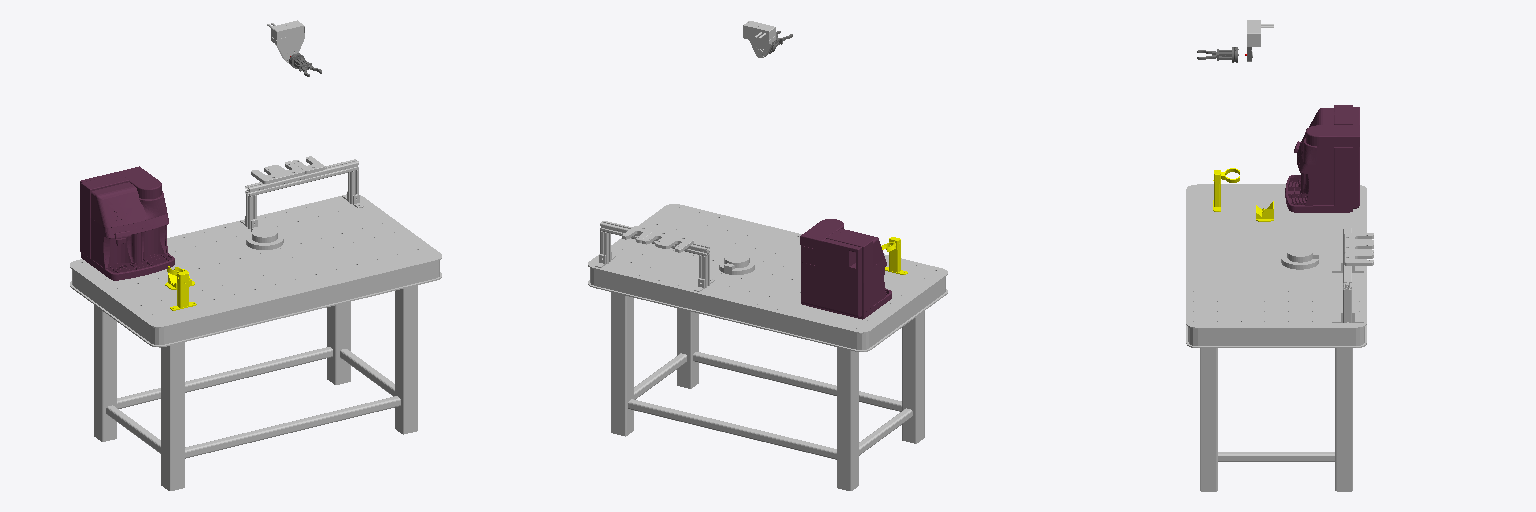
The robot description file, URDF, robot "aubo_e5":
<?xml version="1.0" ?>
<!-- =================================================================================== -->
<!-- |    This document was autogenerated by xacro from /home/mu/IVG2.0/aubo_ros2_ws/src/aubo_ros2_driver/aubo_moveit_config/config/aubo_e5.urdf.xacro | -->
<!-- |    EDITING THIS FILE BY HAND IS NOT RECOMMENDED                                 | -->
<!-- =================================================================================== -->
<robot name="aubo_e5">
  <!-- ===== 机械臂本体 (6-DOF) ===== -->
  <link name="base_link">
    <inertial>
      <origin rpy="0 0 0" xyz="-1.4795E-13 0.0015384 0.020951"/>
      <mass value="0.83419"/>
      <inertia ixx="0.0014414" ixy="7.8809E-15" ixz="8.5328E-16" iyy="0.0013542" iyz="-1.4364E-05" izz="0.0024659"/>
    </inertial>
    <visual>
      <origin rpy="0 0 0" xyz="0 0 0"/>
      <geometry>
        <mesh filename="package://aubo_description/meshes/visual/link0.dae"/>
      </geometry>
      <material name="">
        <color rgba="0.82 0.82 0.82 1"/>
      </material>
    </visual>
    <collision>
      <origin rpy="0 0 0" xyz="0 0 0"/>
      <geometry>
        <mesh filename="package://aubo_description/meshes/collision/link0.stl"/>
      </geometry>
    </collision>
  </link>
  <link name="shoulder_Link">
    <inertial>
      <origin rpy="0 0 0" xyz="0 0.0038 0.0006"/>
      <mass value="5.05"/>
      <inertia ixx="0.0148" ixy="0" ixz="0" iyy="0.0143" iyz="0" izz="0.0095"/>
    </inertial>
    <visual>
      <origin rpy="0 0 0" xyz="0 0 0"/>
      <geometry>
        <mesh filename="package://aubo_description/meshes/visual/link1.dae"/>
      </geometry>
      <material name="">
        <color rgba="0.82 0.82 0.82 1"/>
      </material>
    </visual>
    <collision>
      <origin rpy="0 0 0" xyz="0 0 0"/>
      <geometry>
        <mesh filename="package://aubo_description/meshes/collision/link1.stl"/>
      </geometry>
    </collision>
  </link>
  <joint name="shoulder_joint" type="revolute">
    <origin rpy="0 0 3.1415926535897932384626433832795" xyz="0 0 0.122"/>
    <parent link="base_link"/>
    <child link="shoulder_Link"/>
    <axis xyz="0 0 1"/>
    <limit effort="133" lower="-3.054326190990076759616458844855" start_stop="207" upper="3.054326190990076759616458844855" velocity="2.5964"/>
  </joint>
  <link name="upperArm_Link">
    <inertial>
      <origin rpy="0 0 0" xyz="0.2040 0 0.0196"/>
      <mass value="11.28"/>
      <inertia ixx="0.0305" ixy="0" ixz="0" iyy="0.4505" iyz="0" izz="0.4400"/>
    </inertial>
    <visual>
      <origin rpy="0 0 0" xyz="0 0 0"/>
      <geometry>
        <mesh filename="package://aubo_description/meshes/visual/link2.dae"/>
      </geometry>
      <material name="">
        <color rgba="0.82 0.82 0.82 1"/>
      </material>
    </visual>
    <collision>
      <origin rpy="0 0 0" xyz="0 0 0"/>
      <geometry>
        <mesh filename="package://aubo_description/meshes/collision/link2.stl"/>
      </geometry>
    </collision>
  </link>
  <joint name="upperArm_joint" type="revolute">
    <origin rpy="-1.5707963267948966192313216916398 -1.5707963267948966192313216916398 0" xyz="0 0.1215 0"/>
    <parent link="shoulder_Link"/>
    <child link="upperArm_Link"/>
    <axis xyz="0 0 1"/>
    <limit effort="133" lower="-3.054326190990076759616458844855" start_stop="207" upper="3.054326190990076759616458844855" velocity="2.5964"/>
  </joint>
  <link name="foreArm_Link">
    <inertial>
      <origin rpy="0 0 0" xyz="0.2699 0 0.0992"/>
      <mass value="2.88"/>
      <inertia ixx="0.0033" ixy="0" ixz="0" iyy="0.0575" iyz="0" izz="0.0565"/>
    </inertial>
    <visual>
      <origin rpy="0 0 0" xyz="0 0 0"/>
      <geometry>
        <mesh filename="package://aubo_description/meshes/visual/link3.dae"/>
      </geometry>
      <material name="">
        <color rgba="0.82 0.82 0.82 1"/>
      </material>
    </visual>
    <collision>
      <origin rpy="0 0 0" xyz="0 0 0"/>
      <geometry>
        <mesh filename="package://aubo_description/meshes/collision/link3.stl"/>
      </geometry>
    </collision>
  </link>
  <joint name="foreArm_joint" type="revolute">
    <origin rpy="-3.1415926535897932384626433832795 0 0" xyz="0.408 0 0"/>
    <parent link="upperArm_Link"/>
    <child link="foreArm_Link"/>
    <axis xyz="0 0 1"/>
    <limit effort="133" lower="-3.054326190990076759616458844855" start_stop="207" upper="3.054326190990076759616458844855" velocity="2.5964"/>
  </joint>
  <link name="wrist1_Link">
    <inertial>
      <origin rpy="0 0 0" xyz="0 -0.0997 -0.0780"/>
      <mass value="1.62"/>
      <inertia ixx="0.0023" ixy="0" ixz="0" iyy="0.0013" iyz="0" izz="0.0022"/>
    </inertial>
    <visual>
      <origin rpy="0 0 0" xyz="0 0 0"/>
      <geometry>
        <mesh filename="package://aubo_description/meshes/visual/link4.dae"/>
      </geometry>
      <material name="">
        <color rgba="0.82 0.82 0.82 1"/>
      </material>
    </visual>
    <collision>
      <origin rpy="0 0 0" xyz="0 0 0"/>
      <geometry>
        <mesh filename="package://aubo_description/meshes/collision/link4.stl"/>
      </geometry>
    </collision>
  </link>
  <joint name="wrist1_joint" type="revolute">
    <origin rpy="3.1415926535897932384626433832795 0 1.5707963267948966192313216916398" xyz="0.376 0 0"/>
    <parent link="foreArm_Link"/>
    <child link="wrist1_Link"/>
    <axis xyz="0 0 1"/>
    <limit effort="13.5" lower="-3.054326190990076759616458844855" start_stop="34" upper="3.054326190990076759616458844855" velocity="3.1105"/>
  </joint>
  <link name="wrist2_Link">
    <inertial>
      <origin rpy="0 0 0" xyz="0 -0.0028 -0.0030"/>
      <mass value="1.62"/>
      <inertia ixx="0.0023" ixy="0" ixz="0" iyy="0.0013" iyz="0" izz="0.0022"/>
    </inertial>
    <visual>
      <origin rpy="0 0 0" xyz="0 0 0"/>
      <geometry>
        <mesh filename="package://aubo_description/meshes/visual/link5.dae"/>
      </geometry>
      <material name="">
        <color rgba="0.82 0.82 0.82 1"/>
      </material>
    </visual>
    <collision>
      <origin rpy="0 0 0" xyz="0 0 0"/>
      <geometry>
        <mesh filename="package://aubo_description/meshes/collision/link5.stl"/>
      </geometry>
    </collision>
  </link>
  <joint name="wrist2_joint" type="revolute">
    <origin rpy="-1.5707963267948966192313216916398 0 0" xyz="0 0.1025 0"/>
    <parent link="wrist1_Link"/>
    <child link="wrist2_Link"/>
    <axis xyz="0 0 1"/>
    <limit effort="13.5" lower="-3.054326190990076759616458844855" start_stop="34" upper="3.054326190990076759616458844855" velocity="3.1105"/>
  </joint>
  <link name="wrist3_Link">
    <inertial>
      <origin rpy="0 0 0" xyz="0 0 -0.0442"/>
      <mass value="0.5"/>
      <inertia ixx="0.00139395" ixy="0" ixz="0" iyy="0.00139882" iyz="0" izz="0.00224092"/>
    </inertial>
    <visual>
      <origin rpy="0 0 0" xyz="0 0 0"/>
      <geometry>
        <mesh filename="package://aubo_description/meshes/visual/link6.dae"/>
      </geometry>
      <material name="">
        <color rgba="0.82 0.82 0.82 1"/>
      </material>
    </visual>
    <collision>
      <origin rpy="0 0 0" xyz="0 0 0"/>
      <geometry>
        <mesh filename="package://aubo_description/meshes/collision/link6.stl"/>
      </geometry>
    </collision>
  </link>
  <joint name="wrist3_joint" type="revolute">
    <origin rpy="1.5707963267948966192313216916398 0 1.7907E-15" xyz="0 -0.094 0"/>
    <parent link="wrist2_Link"/>
    <child link="wrist3_Link"/>
    <axis xyz="0 0 1"/>
    <limit effort="13.5" lower="-3.054326190990076759616458844855" start_stop="34" upper="3.054326190990076759616458844855" velocity="3.1105"/>
  </joint>
  <link name="world"/>
  <!-- ===== 底座（咖啡机总装模型 pedestal_Link） ===== -->
  <link name="pedestal_Link">
    <inertial>
      <origin rpy="0 0 0" xyz="0.0024005 -0.14873 -0.0020194"/>
      <mass value="180.93"/>
      <inertia ixx="10.702" ixy="6.7618E-17" ixz="3.0187E-14" iyy="41.01" iyz="1.466E-07" izz="32.457"/>
    </inertial>
    <visual>
      <origin rpy="0 0 0" xyz="0 0 0"/>
      <geometry>
        <mesh filename="package://aubo_description/meshes/visual/pedestal_link.stl"/>
      </geometry>
      <material name="">
        <color rgba="0.82 0.82 0.82 1"/>
      </material>
    </visual>
    <collision>
      <origin rpy="0 0 0" xyz="0 0 0"/>
      <geometry>
        <mesh filename="package://aubo_description/meshes/collision/pedestal_link.stl"/>
      </geometry>
    </collision>
  </link>
  <joint name="world_to_pedestal" type="fixed">
    <parent link="world"/>
    <child link="pedestal_Link"/>
    <origin rpy="0.0 0.0 0.0" xyz="0.0 0.0 0.0"/>
  </joint>
  <joint name="base_joint" type="fixed">
    <origin rpy="0 0 0" xyz="0.10483 0.10483 0.028"/>
    <parent link="pedestal_Link"/>
    <child link="base_link"/>
  </joint>
  <!-- ===== 咖啡机总装模型配件 ===== -->
  <link name="cup0_Link">
    <inertial>
      <origin rpy="0 0 0" xyz="0.0459046653140415 0.0335578409178754 0.00298286778797363"/>
      <mass value="1.42763211505643"/>
      <inertia ixx="0.00133864759857838" ixy="-0.000153798571779387" ixz="-3.31742934007893E-05" iyy="0.00208448111254178" iyz="-3.67284842420613E-05" izz="0.0011896985575748"/>
    </inertial>
    <visual>
      <origin rpy="0 0 0" xyz="0 0 0"/>
      <geometry>
        <mesh filename="package://aubo_description/meshes/visual/cup0_link.stl"/>
      </geometry>
      <material name="">
        <color rgba="1 1 0 1"/>
      </material>
    </visual>
    <collision>
      <origin rpy="0 0 0" xyz="0 0 0"/>
      <geometry>
        <mesh filename="package://aubo_description/meshes/collision/cup0_link.stl"/>
      </geometry>
    </collision>
  </link>
  <joint name="cup0_joint" type="fixed">
    <origin rpy="1.5708 0 1.5708" xyz="-0.4225 -0.0925 -0.012"/>
    <parent link="pedestal_Link"/>
    <child link="cup0_Link"/>
  </joint>
  <link name="lizhu_Link">
    <inertial>
      <origin rpy="0 0 0" xyz="0.012277 0.082104 1.7053E-05"/>
      <mass value="0.86598"/>
      <inertia ixx="0.0014347" ixy="1.5778E-05" ixz="1.1895E-08" iyy="0.00066764" iyz="3.1238E-05" izz="0.0012088"/>
    </inertial>
    <visual>
      <origin rpy="0 0 0" xyz="0 0 0"/>
      <geometry>
        <mesh filename="package://aubo_description/meshes/visual/lizhu_link.stl"/>
      </geometry>
      <material name="">
        <color rgba="1 1 0 1"/>
      </material>
    </visual>
    <collision>
      <origin rpy="0 0 0" xyz="0 0 0"/>
      <geometry>
        <mesh filename="package://aubo_description/meshes/collision/lizhu_link.stl"/>
      </geometry>
    </collision>
  </link>
  <joint name="lizhu_joint" type="fixed">
    <origin rpy="1.5708 0 1.5708" xyz="-0.525 -0.2625 0.006"/>
    <parent link="pedestal_Link"/>
    <child link="lizhu_Link"/>
  </joint>
  <link name="coffee_Link">
    <inertial>
      <origin rpy="0 0 0" xyz="0.01588 0.20584 0.0021911"/>
      <mass value="91.454"/>
      <inertia ixx="0.89876" ixy="0.0020091" ixz="-0.10749" iyy="1.0151" iyz="0.023803" izz="0.44104"/>
    </inertial>
    <visual>
      <origin rpy="0 0 0" xyz="0 0 0"/>
      <geometry>
        <mesh filename="package://aubo_description/meshes/visual/coffee_link.stl"/>
      </geometry>
      <material name="">
        <color rgba="0.42745 0.24706 0.35686 1"/>
      </material>
    </visual>
    <collision>
      <origin rpy="0 0 0" xyz="0 0 0"/>
      <geometry>
        <mesh filename="package://aubo_description/meshes/collision/coffee_link.stl"/>
      </geometry>
    </collision>
  </link>
  <joint name="coffee_joint" type="fixed">
    <origin rpy="1.5708 0 1.5708" xyz="-0.53995 0.20318 0.046"/>
    <parent link="pedestal_Link"/>
    <child link="coffee_Link"/>
  </joint>
  <!-- ===== 末端执行器: 相机 ===== -->
  <link name="camera_Link">
    <inertial>
      <origin rpy="0 0 0" xyz="-0.0005963 0.085972 -0.026401"/>
      <mass value="0.72743"/>
      <inertia ixx="0.00064649" ixy="2.7688E-06" ixz="-2.0272E-05" iyy="0.0013072" iyz="8.2399E-05" izz="0.0014971"/>
    </inertial>
    <visual>
      <origin rpy="0 0 0" xyz="0 0 0"/>
      <geometry>
        <mesh filename="package://aubo_description/meshes/visual/camera_link.stl"/>
      </geometry>
      <material name="">
        <color rgba="0.82 0.82 0.82 1"/>
      </material>
    </visual>
    <collision>
      <origin rpy="0 0 0" xyz="0 0 0"/>
      <geometry>
        <mesh filename="package://aubo_description/meshes/collision/camera_link.stl"/>
      </geometry>
    </collision>
  </link>
  <joint name="camera_joint" type="fixed">
    <origin rpy="0.0 0.0 0.0" xyz="0.0 0.0 0.020"/>
    <parent link="wrist3_Link"/>
    <child link="camera_Link"/>
  </joint>
  <!-- ===== 末端执行器: 快换法兰 ===== -->
  <link name="kuaihuan_Link">
    <inertial>
      <origin rpy="0 0 0" xyz="-0.00074639 7.4616E-05 0.0097884"/>
      <mass value="0.21939"/>
      <inertia ixx="6.3771E-05" ixy="4.2875E-07" ixz="-1.7848E-07" iyy="6.9403E-05" iyz="-4.5085E-07" izz="0.0001149"/>
    </inertial>
    <visual>
      <origin rpy="0 0 0" xyz="0 0 0"/>
      <geometry>
        <mesh filename="package://aubo_description/meshes/visual/kuaihuan_link.stl"/>
      </geometry>
      <material name="">
        <color rgba="0.82 0.82 0.82 1"/>
      </material>
    </visual>
    <collision>
      <origin rpy="0 0 0" xyz="0 0 0"/>
      <geometry>
        <mesh filename="package://aubo_description/meshes/collision/kuaihuan_link.stl"/>
      </geometry>
    </collision>
  </link>
  <joint name="kuaihuan_joint" type="fixed">
    <origin rpy="0 0 3.1416" xyz="0 0 0.0215"/>
    <parent link="camera_Link"/>
    <child link="kuaihuan_Link"/>
  </joint>
  <link name="gripper1_Link">
    <visual>
      <origin rpy="0 0 0" xyz="0 0 0"/>
      <geometry>
        <mesh filename="package://aubo_description/meshes/visual/gripper1_link.stl"/>
      </geometry>
      <material name="gripper1_material">
        <color rgba="0.5 0.5 0.5 1.0"/>
      </material>
    </visual>
    <collision>
      <origin rpy="0 0 0" xyz="0 0 0"/>
      <geometry>
        <mesh filename="package://aubo_description/meshes/collision/gripper1_link.stl"/>
      </geometry>
    </collision>
  </link>
  <joint name="kuaihuan_to_gripper1" type="fixed">
    <parent link="kuaihuan_Link"/>
    <child link="gripper1_Link"/>
    <origin rpy="0 0 0" xyz="0 0 0.02"/>
  </joint>
  <!-- Tool Center Point -->
  <link name="tool_tcp">
    <visual>
      <origin rpy="0 0 0" xyz="0 0 0"/>
      <geometry>
        <sphere radius="0.005"/>
      </geometry>
      <material name="tcp_marker">
        <color rgba="1.0 0.0 0.0 1.0"/>
      </material>
    </visual>
  </link>
  <joint name="wrist3_to_tcp" type="fixed">
    <parent link="wrist3_Link"/>
    <child link="tool_tcp"/>
    <origin rpy="0.0 0.0 0.0" xyz="0.0 0.0 0.0235"/>
  </joint>
  <transmission name="shoulder_joint_trans">
    <type>transmission_interface/SimpleTransmission</type>
    <joint name="shoulder_joint">
      <hardwareInterface>hardware_interface/PositionJointInterface</hardwareInterface>
    </joint>
    <actuator name="shoulder_joint_motor">
      <mechanicalReduction>1</mechanicalReduction>
    </actuator>
  </transmission>
  <transmission name="upperArm_joint_trans">
    <type>transmission_interface/SimpleTransmission</type>
    <joint name="upperArm_joint">
      <hardwareInterface>hardware_interface/PositionJointInterface</hardwareInterface>
    </joint>
    <actuator name="upperArm_joint_motor">
      <mechanicalReduction>1</mechanicalReduction>
    </actuator>
  </transmission>
  <transmission name="foreArm_joint_trans">
    <type>transmission_interface/SimpleTransmission</type>
    <joint name="foreArm_joint">
      <hardwareInterface>hardware_interface/PositionJointInterface</hardwareInterface>
    </joint>
    <actuator name="foreArm_joint_motor">
      <mechanicalReduction>1</mechanicalReduction>
    </actuator>
  </transmission>
  <transmission name="wrist1_joint_trans">
    <type>transmission_interface/SimpleTransmission</type>
    <joint name="wrist1_joint">
      <hardwareInterface>hardware_interface/PositionJointInterface</hardwareInterface>
    </joint>
    <actuator name="wrist1_joint_motor">
      <mechanicalReduction>1</mechanicalReduction>
    </actuator>
  </transmission>
  <transmission name="wrist2_joint_trans">
    <type>transmission_interface/SimpleTransmission</type>
    <joint name="wrist2_joint">
      <hardwareInterface>hardware_interface/PositionJointInterface</hardwareInterface>
    </joint>
    <actuator name="wrist2_joint_motor">
      <mechanicalReduction>1</mechanicalReduction>
    </actuator>
  </transmission>
  <transmission name="wrist3_joint_trans">
    <type>transmission_interface/SimpleTransmission</type>
    <joint name="wrist3_joint">
      <hardwareInterface>hardware_interface/PositionJointInterface</hardwareInterface>
    </joint>
    <actuator name="wrist3_joint_motor">
      <mechanicalReduction>1</mechanicalReduction>
    </actuator>
  </transmission>
  <ros2_control name="auboHardwareInterface" type="system">
    <hardware>
      <plugin>fake_components/GenericSystem</plugin>
      <param name="fake_sensor_commands">False</param>
      <param name="state_following_offset">0.0</param>
    </hardware>
    <joint name="shoulder_joint">
      <command_interface name="position">
        <param name="min">-3.05</param>
        <param name="max">3.05</param>
      </command_interface>
      <state_interface name="position"/>
      <state_interface name="velocity"/>
    </joint>
    <joint name="upperArm_joint">
      <command_interface name="position">
        <param name="min">-3.05</param>
        <param name="max">3.05</param>
      </command_interface>
      <state_interface name="position"/>
      <state_interface name="velocity"/>
    </joint>
    <joint name="foreArm_joint">
      <command_interface name="position">
        <param name="min">-3.05</param>
        <param name="max">3.05</param>
      </command_interface>
      <state_interface name="position"/>
      <state_interface name="velocity"/>
    </joint>
    <joint name="wrist1_joint">
      <command_interface name="position">
        <param name="min">-3.05</param>
        <param name="max">3.05</param>
      </command_interface>
      <state_interface name="position"/>
      <state_interface name="velocity"/>
    </joint>
    <joint name="wrist2_joint">
      <command_interface name="position">
        <param name="min">-3.05</param>
        <param name="max">3.05</param>
      </command_interface>
      <state_interface name="position"/>
      <state_interface name="velocity"/>
    </joint>
    <joint name="wrist3_joint">
      <command_interface name="position">
        <param name="min">-3.05</param>
        <param name="max">3.05</param>
      </command_interface>
      <state_interface name="position"/>
      <state_interface name="velocity"/>
    </joint>
  </ros2_control>
</robot>

--- Render facts (derived) ---
Views: 3 orthographic renders of the robot side by side, from view 1: azimuth 30°, elevation 25°; view 2: azimuth 150°, elevation 25°; view 3: azimuth 270°, elevation 25°.
Robot: aubo_e5 — 16 links, 15 joints (6 revolute, 9 fixed); root link world; default pose: all joints at 0.
Visible links, largest first — view 1: pedestal_Link, coffee_Link, camera_Link, base_link, lizhu_Link; view 2: pedestal_Link, coffee_Link, camera_Link, base_link; view 3: pedestal_Link, coffee_Link, base_link.
Link boxes in pixels (box(x1,y1,x2,y2)): pedestal_Link: box(70, 156, 441, 490); coffee_Link: box(80, 166, 174, 280); camera_Link: box(267, 20, 304, 62); base_link: box(246, 226, 283, 249); lizhu_Link: box(167, 266, 196, 310); pedestal_Link: box(588, 204, 947, 490); coffee_Link: box(800, 219, 891, 319); camera_Link: box(743, 21, 775, 57); base_link: box(719, 252, 754, 274); pedestal_Link: box(1186, 184, 1373, 491); coffee_Link: box(1285, 105, 1359, 212); base_link: box(1281, 246, 1318, 269).
Bounding box of the posed robot: 1.5 × 0.83 × 2.02 m (x, y, z).
7 mesh visuals loaded from 14 distinct referenced files (6 binary STL, 1 Collada DAE); not drawn: 7 (reference not matched to a file when rendering).
